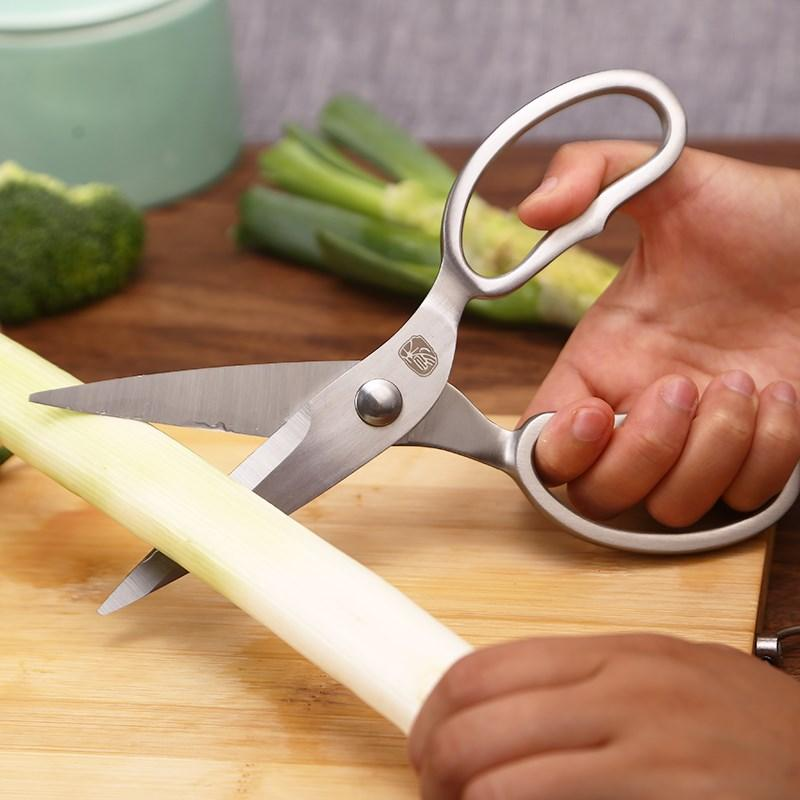scissor: (83, 61, 792, 621)
